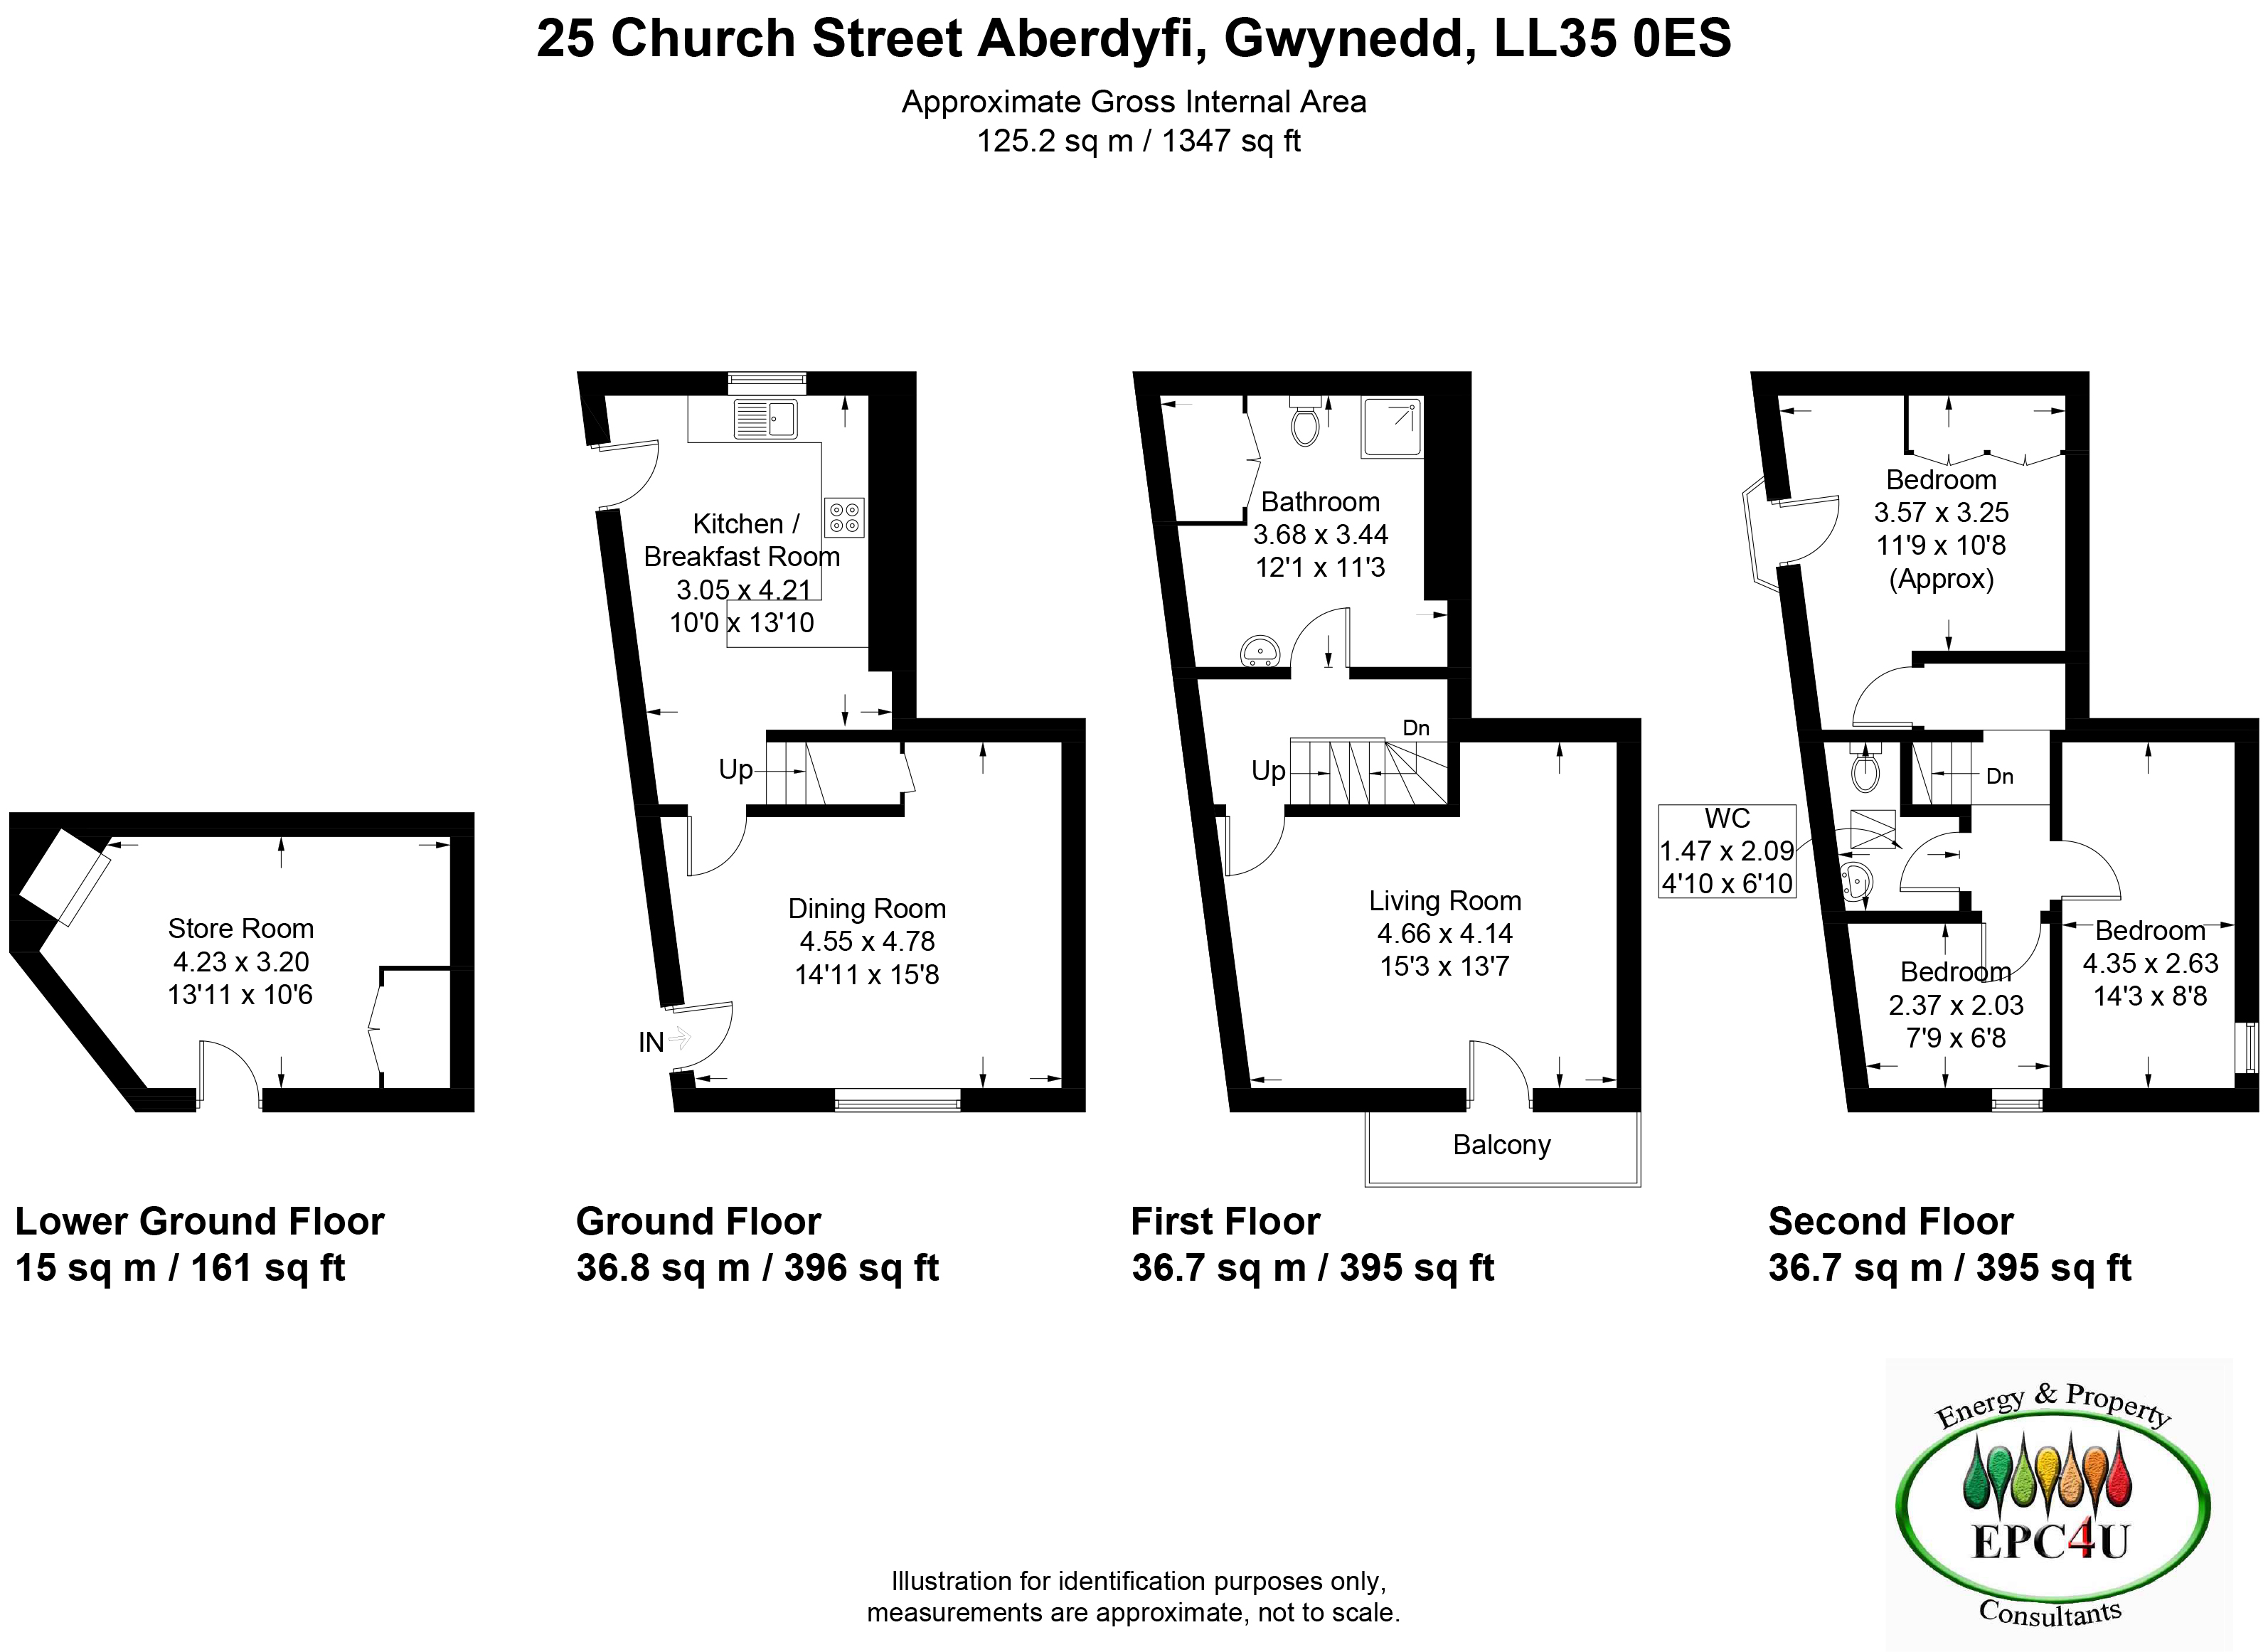door: (195, 1037, 262, 1101), (685, 817, 750, 881), (2062, 838, 2127, 902), (1224, 814, 1289, 875), (1465, 1039, 1530, 1101), (1847, 666, 1912, 727)
